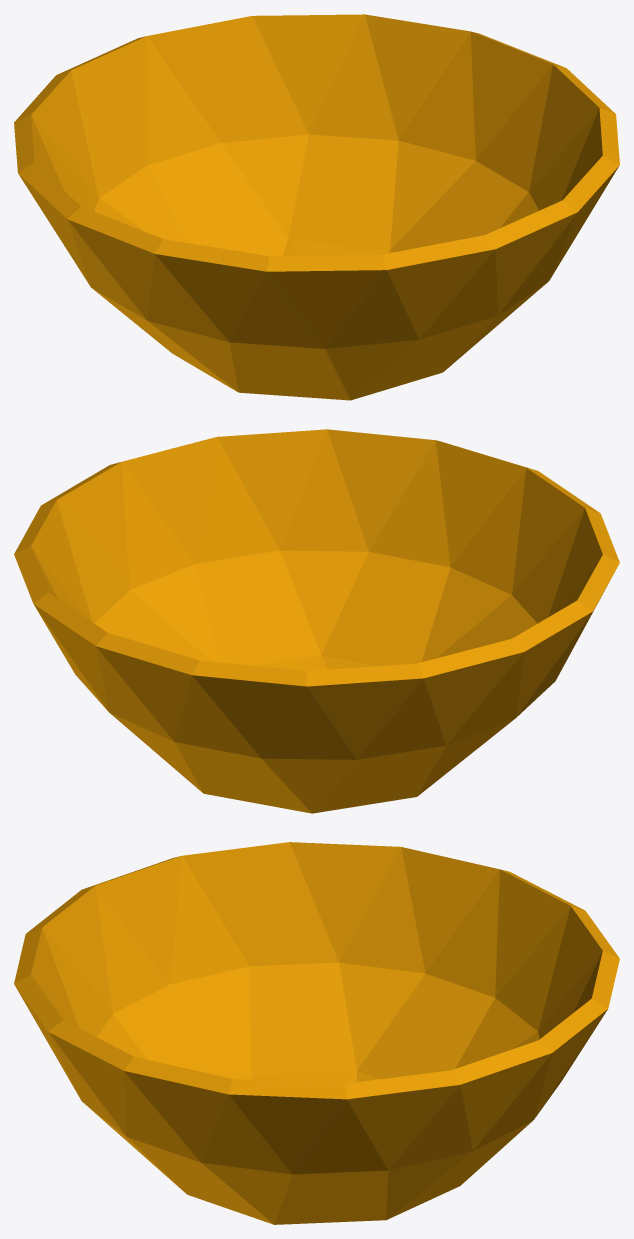
Rendered from miska.fbx.
3 renders of one model, top to bottom at view 1: azimuth 30°, elevation 25°; view 2: azimuth 150°, elevation 25°; view 3: azimuth 270°, elevation 25°, orthographic.
Parts seen in each view (by area): view 1: Sphere; view 2: Sphere; view 3: Sphere.
Boxes of the visible parts, <box> form: Sphere: <box>14,14,619,400</box>; Sphere: <box>14,429,619,813</box>; Sphere: <box>14,842,619,1224</box>.
Size of the model in its own units: 189 by 69.53 by 189.
